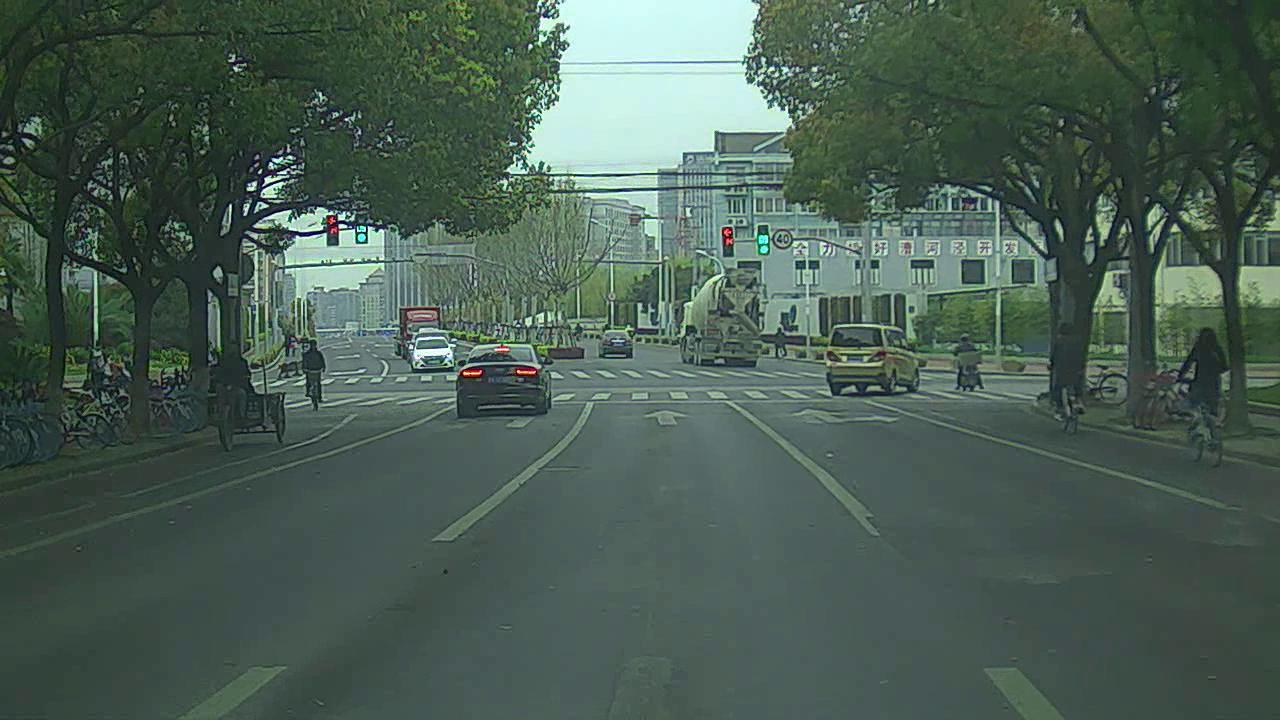traffic_light: (351, 214, 370, 245), (721, 222, 736, 256), (327, 214, 341, 247), (758, 225, 771, 256)
